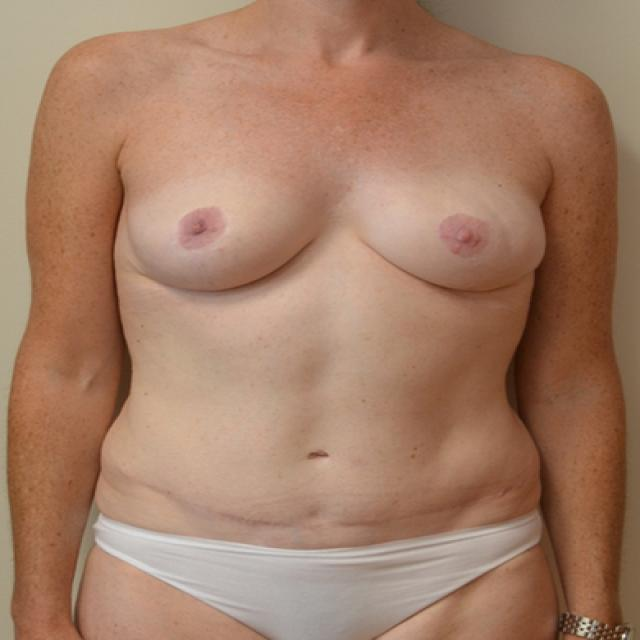Seno ileso: (106, 136, 336, 304), (344, 136, 560, 304)
